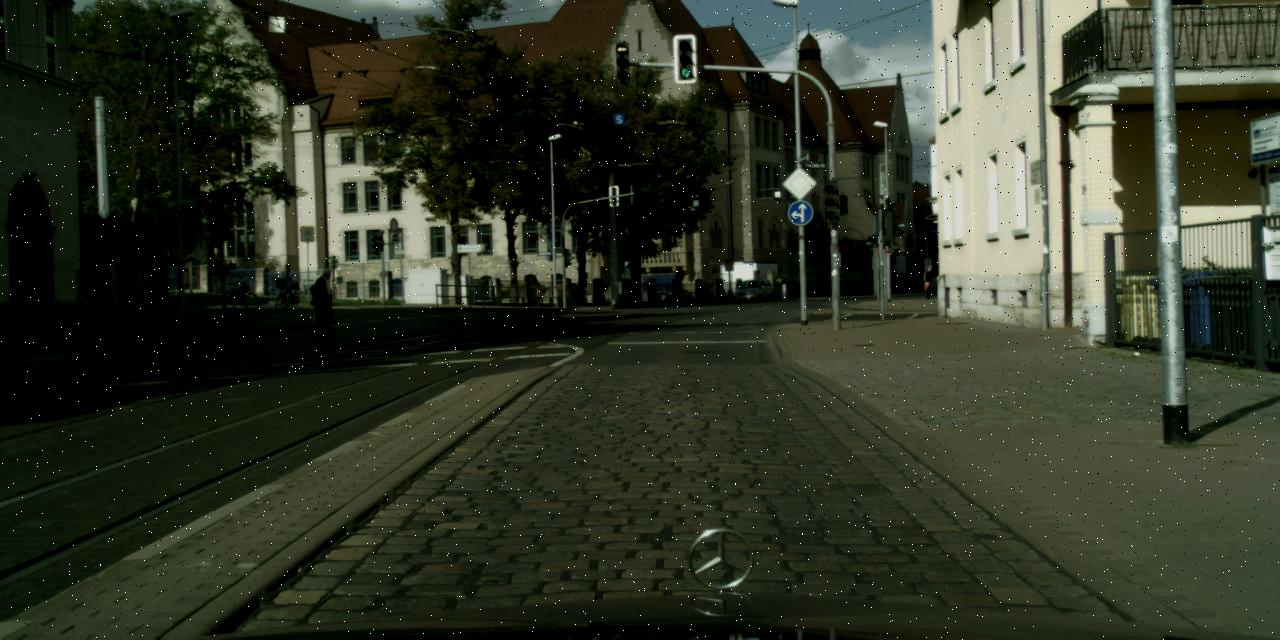ped: (311, 268, 339, 336), (279, 263, 295, 303), (921, 264, 934, 298), (236, 270, 248, 304)
